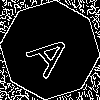A: (25, 25, 82, 80)
